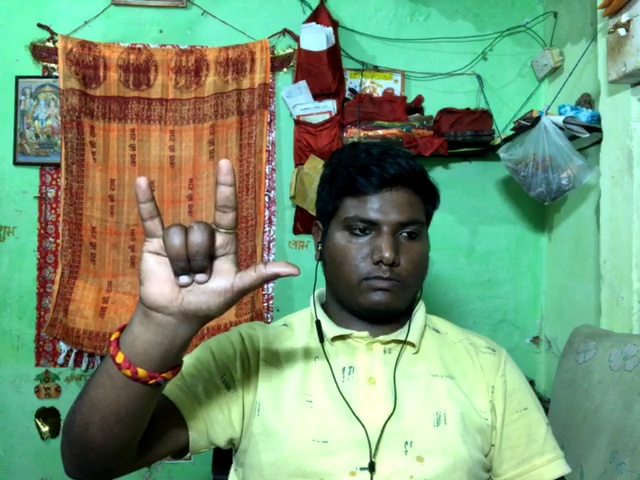I Love You: (115, 144, 314, 342)
